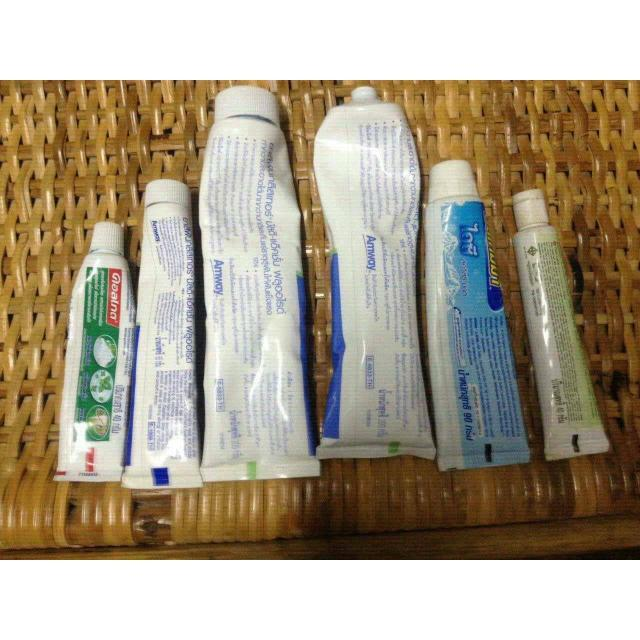Squeeze Tube: (200, 87, 321, 477), (311, 82, 433, 460), (426, 156, 532, 468), (511, 188, 608, 458), (122, 174, 202, 486), (53, 225, 130, 477)
